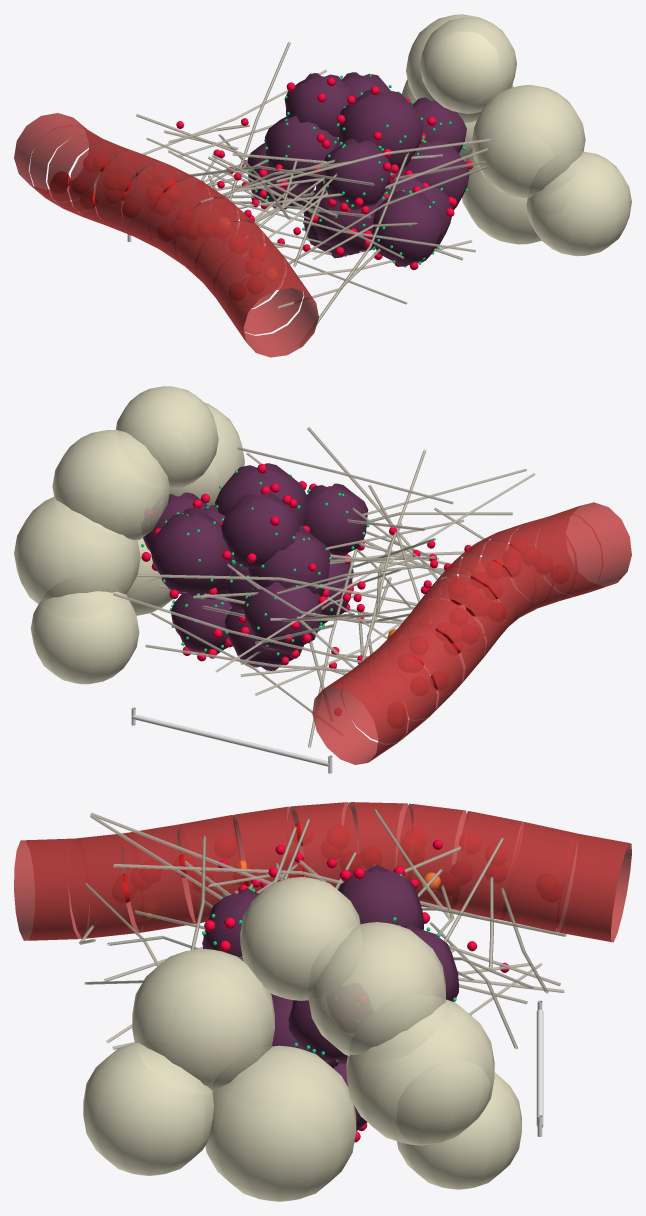
File: breast_tissue_targeting.obj
3 views of the same model, one above another, from view 1: azimuth 30°, elevation 25°; view 2: azimuth 150°, elevation 25°; view 3: azimuth 270°, elevation 25° (orthographic). The views are drawn at different scales.
Visible parts, largest first — view 1: Normal_Breast_Adipocytes, Tumor_Capillary_Vessel, Breast_Carcinoma_Cells, Extracellular_Matrix_Fibrils, Targeted_Nanoparticles_Bound, Red_Blood_Cells, HER2_Receptor_Mantle, Extravasating_Nanoparticles; view 2: Normal_Breast_Adipocytes, Tumor_Capillary_Vessel, Breast_Carcinoma_Cells, Extracellular_Matrix_Fibrils, Targeted_Nanoparticles_Bound, Tissue_Scale_Bar_50um, Red_Blood_Cells, Extravasating_Nanoparticles, HER2_Receptor_Mantle; view 3: Normal_Breast_Adipocytes, Tumor_Capillary_Vessel, Extracellular_Matrix_Fibrils, Breast_Carcinoma_Cells, Red_Blood_Cells, Tissue_Scale_Bar_50um, Targeted_Nanoparticles_Bound, Extravasating_Nanoparticles.
Boxes of the visible parts, x1,y1,x2,y2 form: Normal_Breast_Adipocytes: [402, 14, 631, 256]; Tumor_Capillary_Vessel: [14, 113, 318, 357]; Breast_Carcinoma_Cells: [247, 72, 469, 266]; Extracellular_Matrix_Fibrils: [136, 41, 491, 324]; Targeted_Nanoparticles_Bound: [242, 77, 472, 270]; Red_Blood_Cells: [50, 155, 266, 300]; HER2_Receptor_Mantle: [248, 73, 470, 267]; Extravasating_Nanoparticles: [176, 118, 310, 251]; Normal_Breast_Adipocytes: [14, 386, 244, 684]; Tumor_Capillary_Vessel: [312, 502, 631, 764]; Breast_Carcinoma_Cells: [143, 463, 368, 670]; Extracellular_Matrix_Fibrils: [113, 427, 535, 748]; Targeted_Nanoparticles_Bound: [141, 464, 366, 661]; Tissue_Scale_Bar_50um: [131, 707, 332, 773]; Red_Blood_Cells: [388, 538, 568, 728]; Extravasating_Nanoparticles: [281, 527, 470, 714]; HER2_Receptor_Mantle: [141, 470, 369, 655]; Normal_Breast_Adipocytes: [83, 877, 521, 1201]; Tumor_Capillary_Vessel: [14, 802, 631, 942]; Extracellular_Matrix_Fibrils: [79, 809, 566, 1049]; Breast_Carcinoma_Cells: [203, 865, 458, 1131]; Red_Blood_Cells: [117, 822, 556, 903]; Tissue_Scale_Bar_50um: [536, 1000, 543, 1136]; Targeted_Nanoparticles_Bound: [202, 866, 429, 1142]; Extravasating_Nanoparticles: [218, 839, 509, 972].
Size of the model in its own units: 119 by 59.5 by 114.
